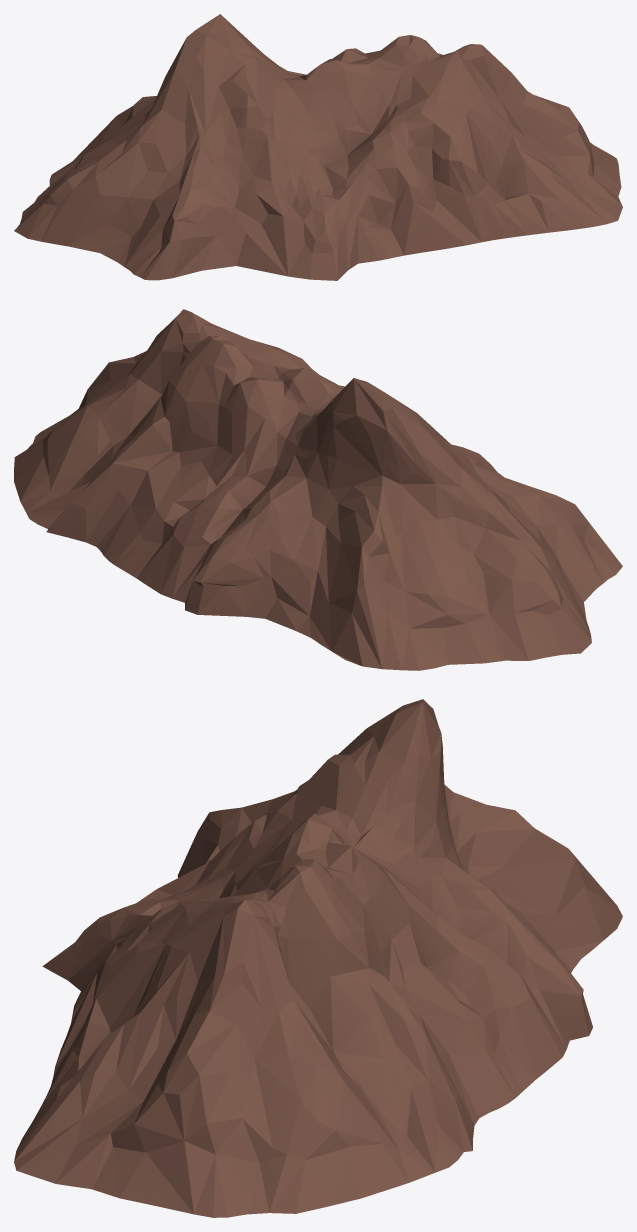
Rendered from mountain_001.glb.
3 renders of one model, top to bottom at view 1: azimuth 30°, elevation 25°; view 2: azimuth 150°, elevation 25°; view 3: azimuth 270°, elevation 25°, orthographic. The views are drawn at different scales.
Visible parts, largest first — view 1: mountain_001; view 2: mountain_001; view 3: mountain_001.
Part boxes in pixels (<box>): mountain_001: <box>14,14,622,280</box>; mountain_001: <box>14,309,622,670</box>; mountain_001: <box>14,699,622,1217</box>.
Bounding box in the file's own units: 527 × 167 × 343.
1 material, 1 textured.
